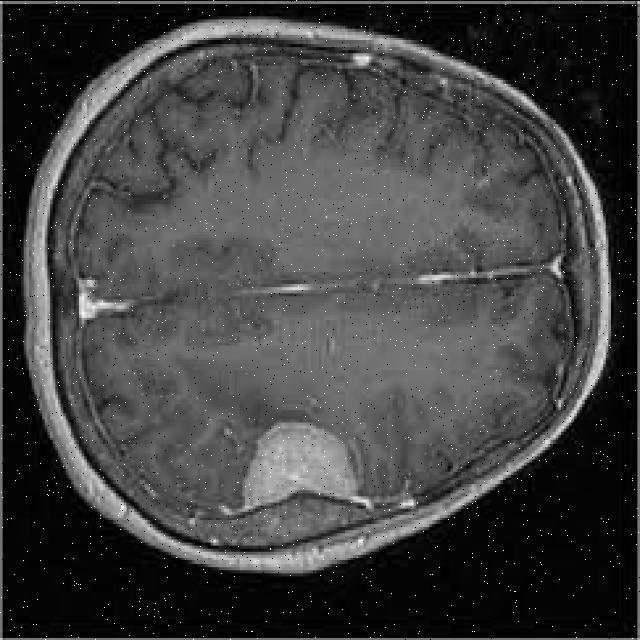Meningioma: (241, 422, 360, 511)
